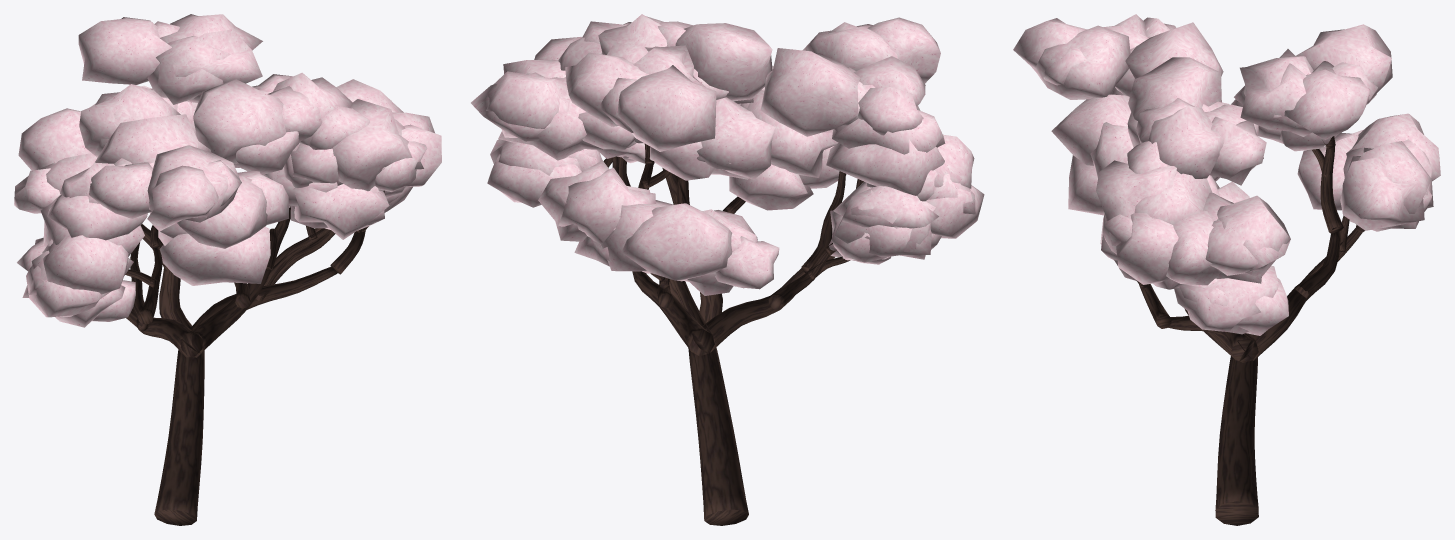
File: plum_blossom_tree.glb
3 views of the same model, side by side, from view 1: azimuth 30°, elevation 25°; view 2: azimuth 150°, elevation 25°; view 3: azimuth 270°, elevation 25° (orthographic). The views are drawn at different scales.
Parts seen in each view (by area): view 1: PlumBlossoms, PlumTrunk; view 2: PlumBlossoms, PlumTrunk; view 3: PlumBlossoms, PlumTrunk.
Part boxes in pixels (x1=…): PlumBlossoms: x1=14, y1=14, x2=441, y2=327; PlumTrunk: x1=125, y1=190, x2=384, y2=525; PlumBlossoms: x1=471, y1=14, x2=984, y2=295; PlumTrunk: x1=603, y1=143, x2=863, y2=525; PlumBlossoms: x1=1013, y1=14, x2=1440, y2=335; PlumTrunk: x1=1137, y1=136, x2=1364, y2=525.
Size of what is drawn, in the model's own units: 6.37 by 6.57 by 5.26.
2 materials, 2 textured.
